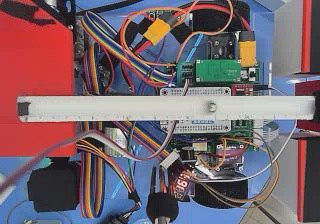ironball: (206, 100, 218, 113)
